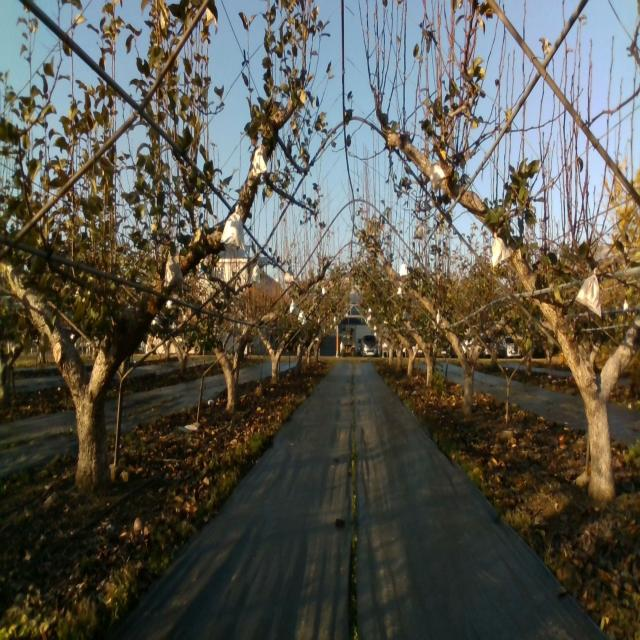pearbags: (575, 267, 601, 317), (220, 204, 246, 252), (491, 230, 512, 266), (162, 254, 184, 286), (252, 143, 268, 176), (429, 164, 445, 196)
